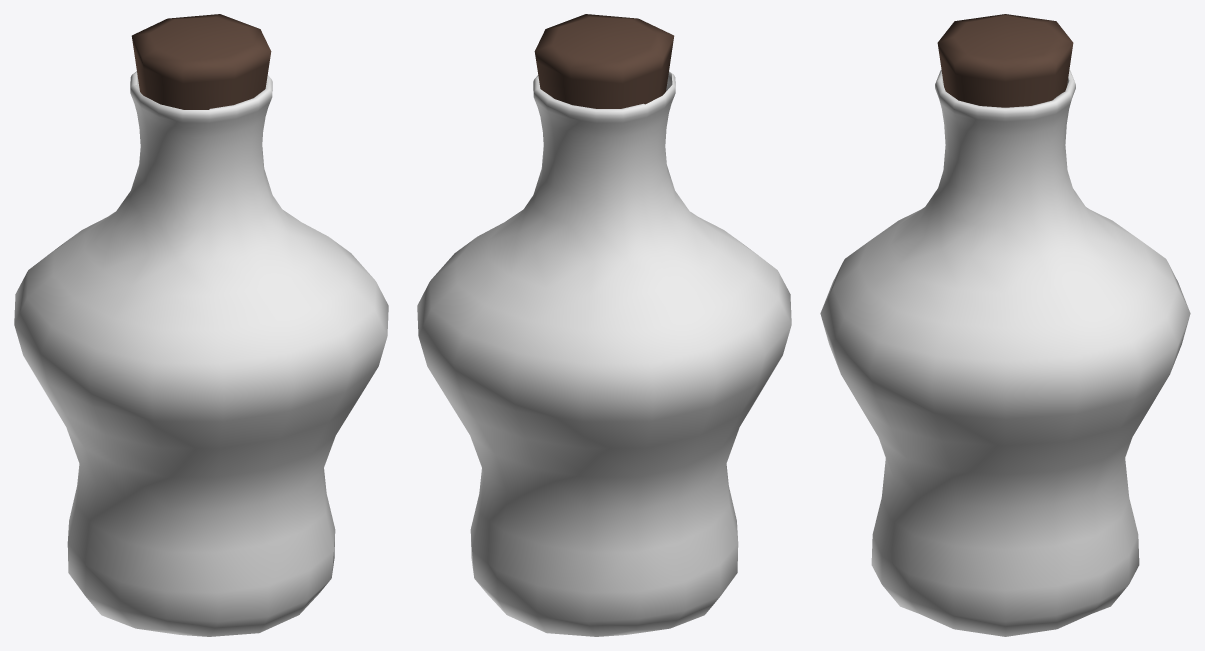
File: Potion2.fbx
The picture shows the model from 3 angles, left to right: view 1: azimuth 30°, elevation 25°; view 2: azimuth 150°, elevation 25°; view 3: azimuth 270°, elevation 25°; orthographic projection.
Visible parts, largest first — view 1: Potion3_Filled; view 2: Potion3_Filled; view 3: Potion3_Filled.
Part boxes in pixels (<box>): Potion3_Filled: <box>14,14,388,636</box>; Potion3_Filled: <box>417,14,791,636</box>; Potion3_Filled: <box>820,14,1190,636</box>.
Size of the model in its own units: 71.87 by 122 by 71.87.
